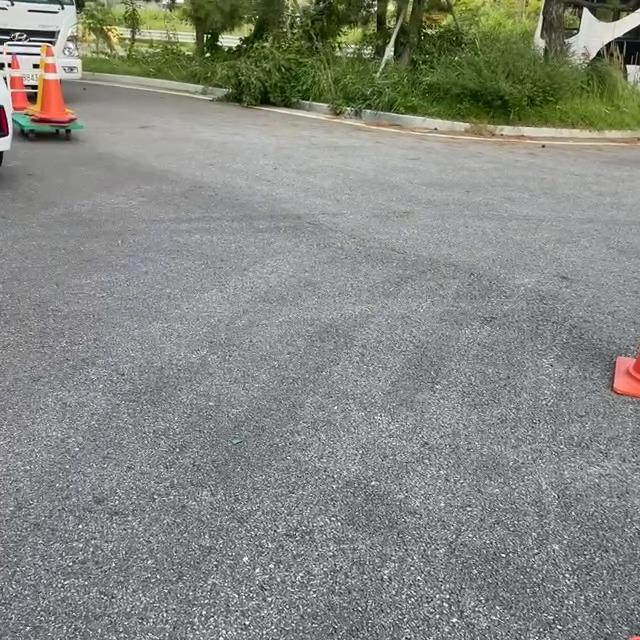fallen_object: (0, 33, 108, 148)
